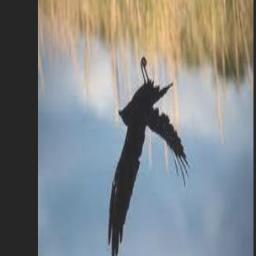Crow: (107, 55, 189, 256)
